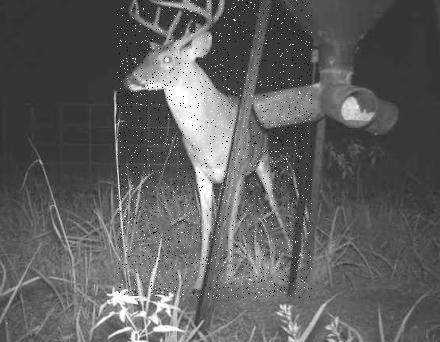Deer: (117, 0, 312, 298)
